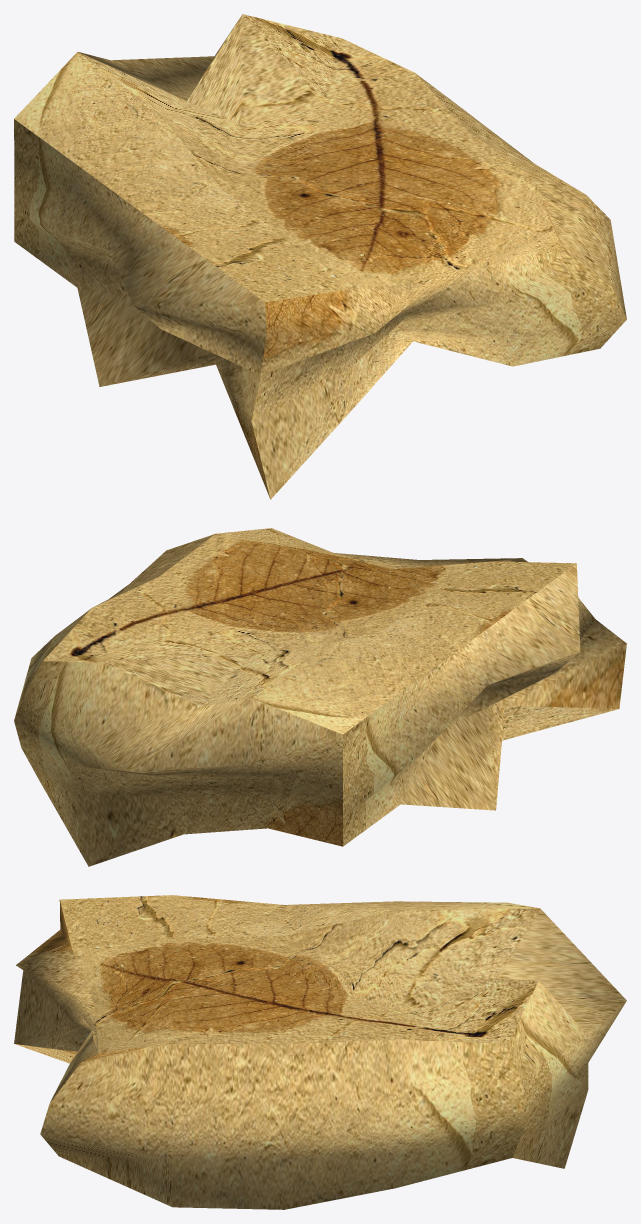
Rendered from fossil2.FBX.
The picture shows the model from 3 angles, top to bottom: view 1: azimuth 30°, elevation 25°; view 2: azimuth 150°, elevation 25°; view 3: azimuth 270°, elevation 25°; orthographic projection. The views are drawn at different scales.
Visible parts, largest first — view 1: Box001; view 2: Box001; view 3: Box001.
Part boxes in pixels (bbox=[...]): Box001: bbox=[14, 14, 626, 499]; Box001: bbox=[14, 528, 626, 866]; Box001: bbox=[14, 895, 626, 1209].
Size of the model in its own units: 60.39 by 26.25 by 76.05.
